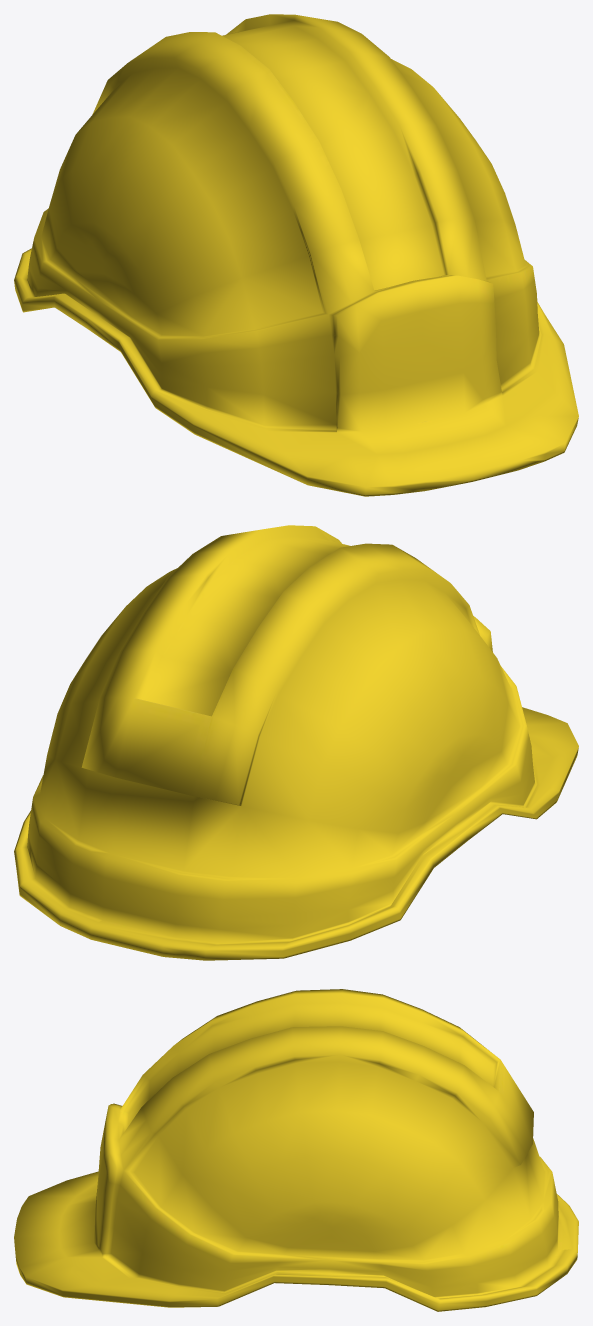
Rendered from construction_hat.glb.
3 views of the same model, one above another, from view 1: azimuth 30°, elevation 25°; view 2: azimuth 150°, elevation 25°; view 3: azimuth 270°, elevation 25° (orthographic). The views are drawn at different scales.
Parts seen in each view (by area): view 1: Helmet_M_Helmet_0; view 2: Helmet_M_Helmet_0; view 3: Helmet_M_Helmet_0.
Boxes of the visible parts, x1=… form: Helmet_M_Helmet_0: x1=14, y1=14, x2=578, y2=496; Helmet_M_Helmet_0: x1=14, y1=525, x2=578, y2=960; Helmet_M_Helmet_0: x1=14, y1=989, x2=578, y2=1311.
Size of the model in its own units: 0.1768 by 0.1288 by 0.275.
Materials: 1 (1 with a texture image).
